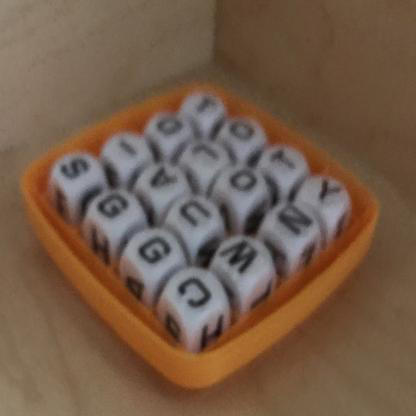a: (144, 160, 179, 196)
c: (174, 271, 217, 318)
d: (152, 110, 188, 146)
g: (135, 229, 174, 272), (97, 186, 132, 227)
i: (110, 130, 141, 166)
l: (187, 142, 222, 178)
n: (271, 198, 313, 243)
o: (225, 166, 261, 202), (224, 114, 258, 149)
s: (55, 146, 93, 189)
t: (265, 144, 308, 184), (189, 85, 219, 124)
u: (178, 193, 216, 239)
w: (216, 233, 264, 284)
y: (309, 170, 343, 216)
